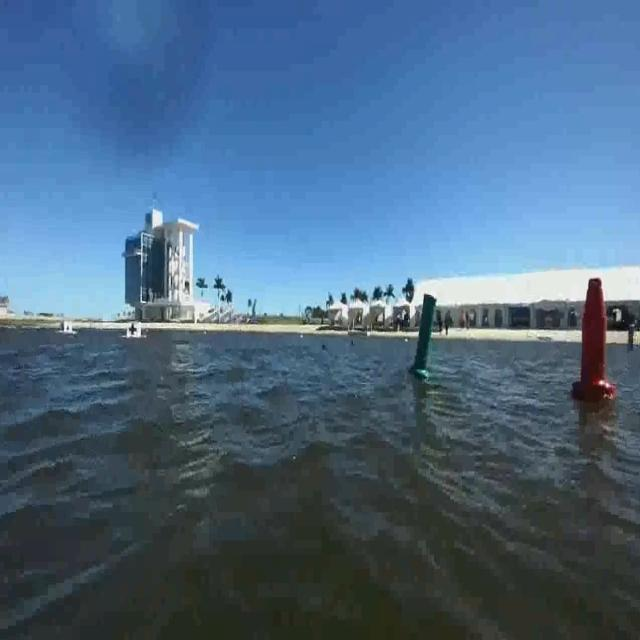green-column-buoy: (410, 293, 440, 379)
red-column-buoy: (571, 277, 614, 403)
